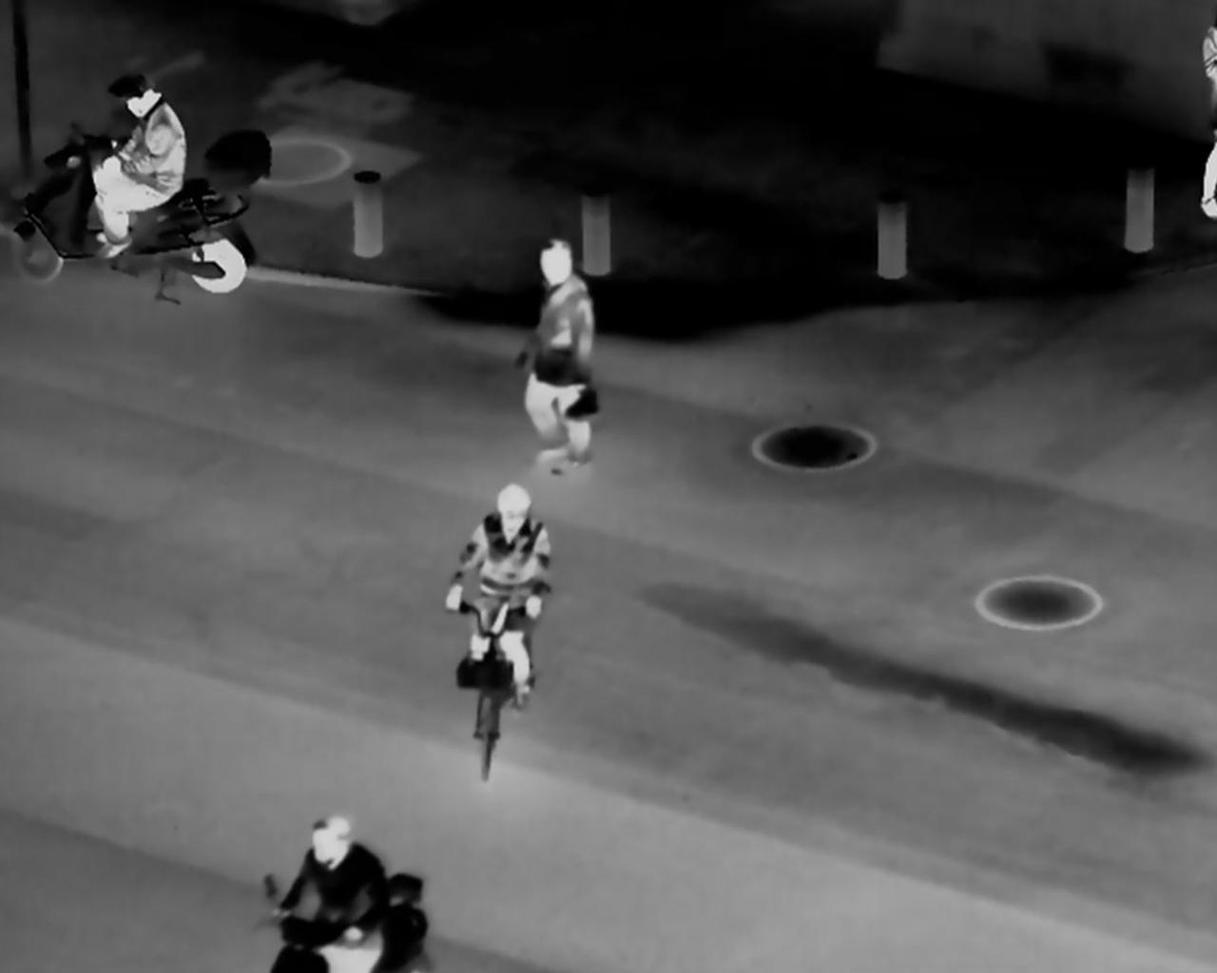person: (444, 477, 551, 772), (520, 224, 611, 484), (264, 806, 405, 972), (88, 74, 184, 272)
